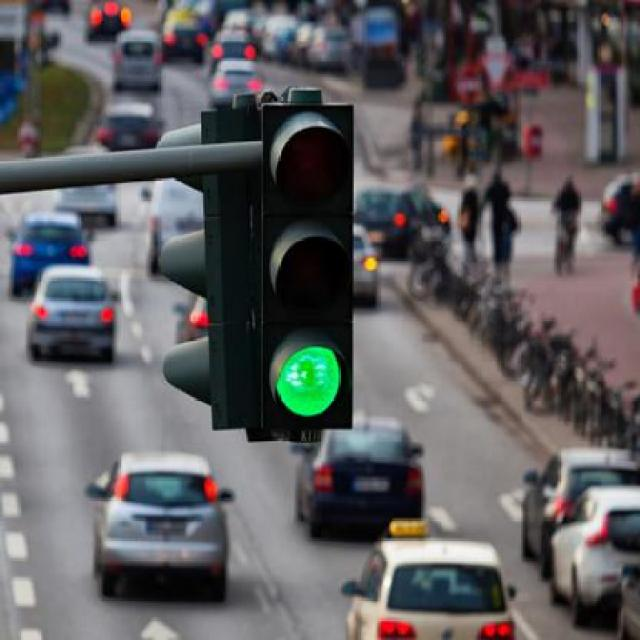traffic light: (262, 100, 357, 432)
